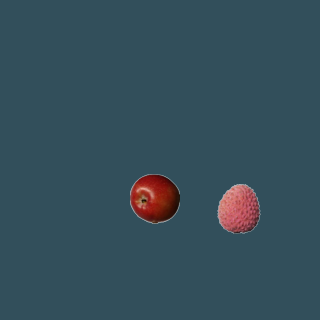Apple Braeburn: (129, 173, 179, 223)
Lychee: (213, 183, 263, 233)
